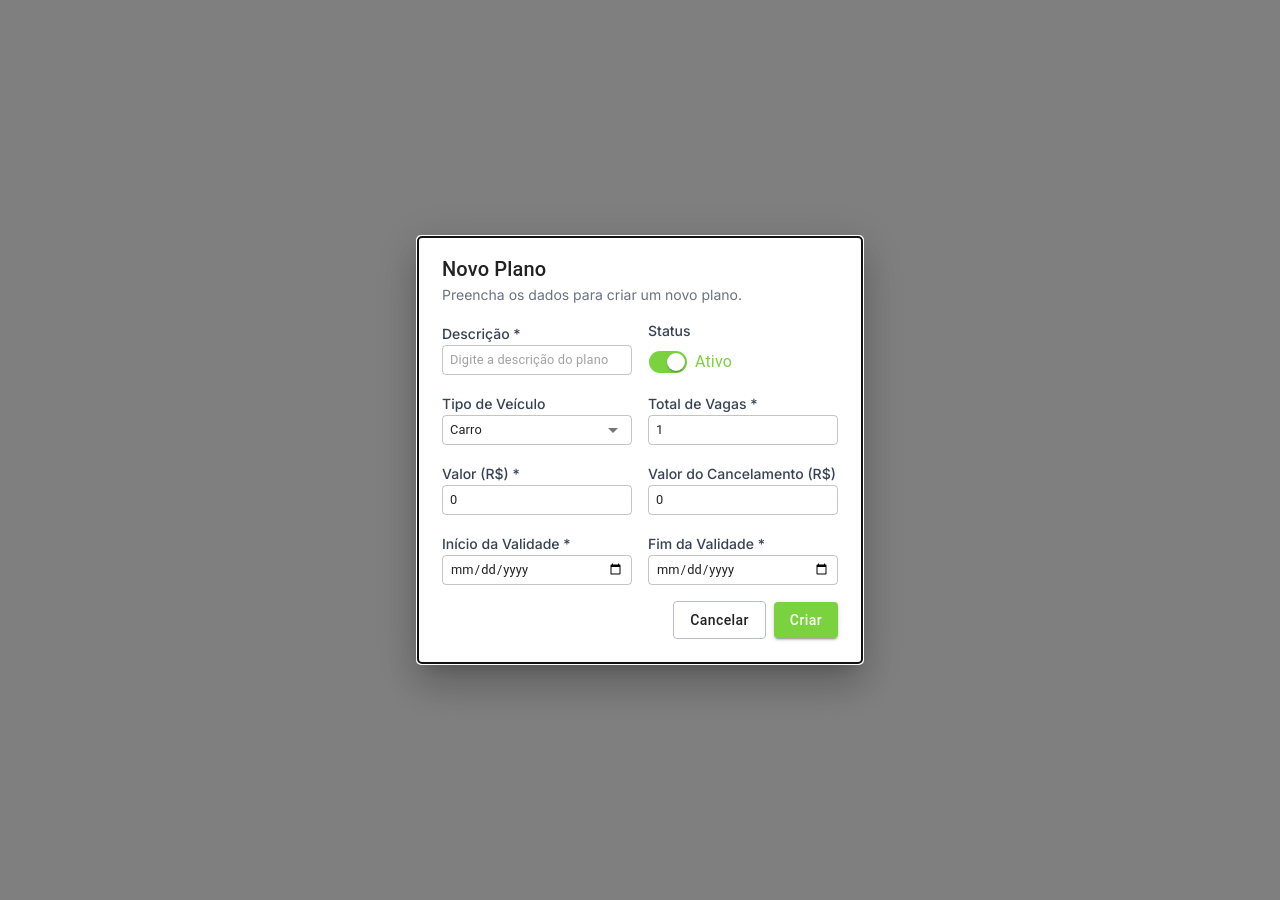
Test: PlanModal › should toggle status switch and reflect label change
Expected: the text "Ativo" is shown, [695,352,732,371]
Click the switch at (668, 362), box [649,350,732,374]
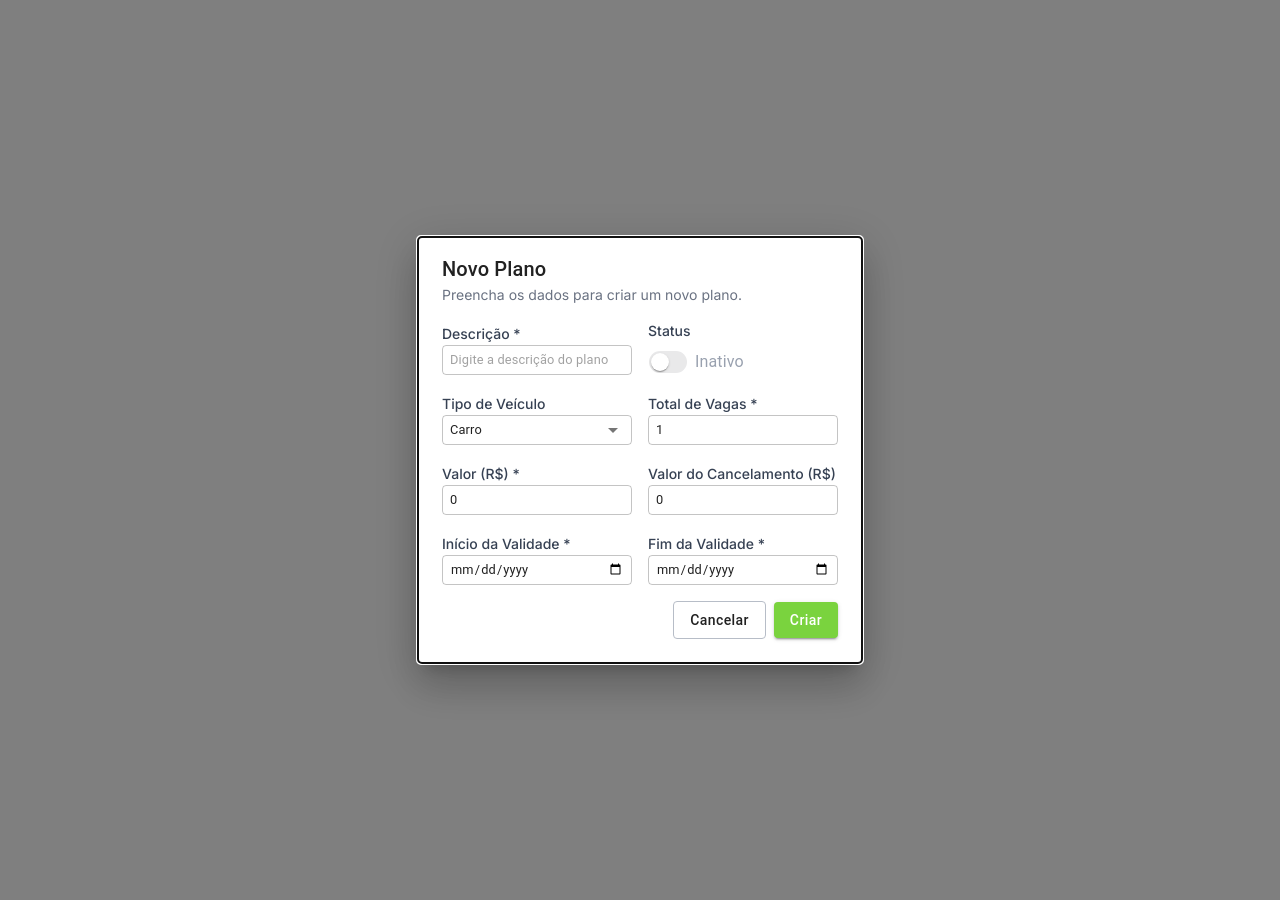
Now the text "Inativo" is shown, box [695,352,744,371]
